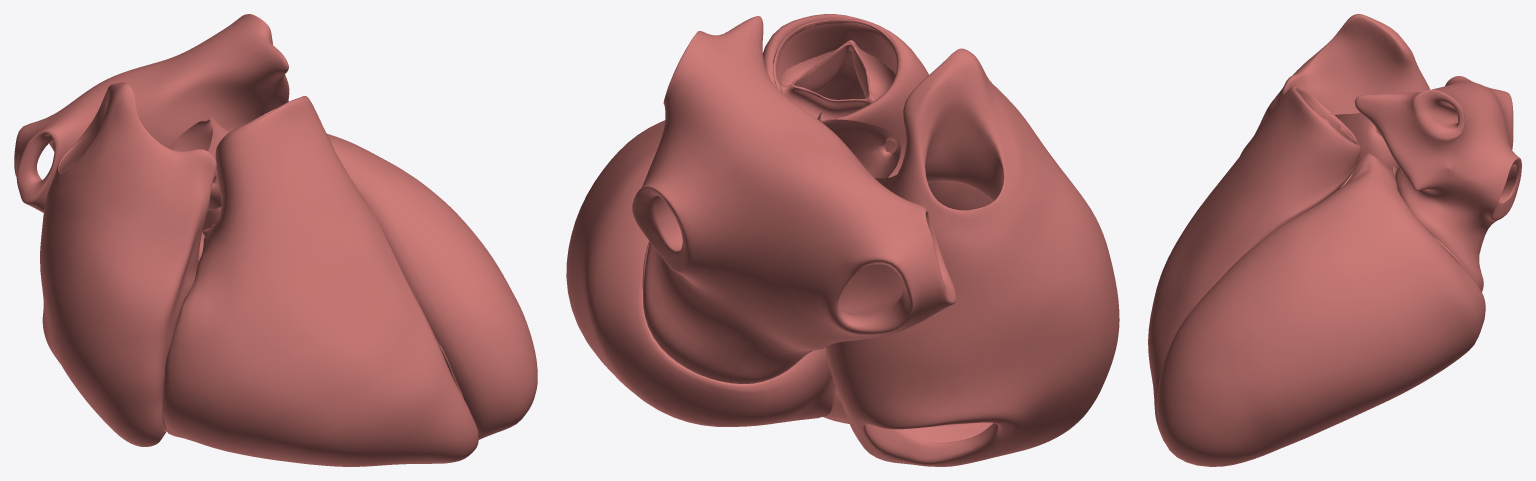
The model's file is heart.glb.
3 views of the same model, side by side, from view 1: azimuth 30°, elevation 25°; view 2: azimuth 150°, elevation 25°; view 3: azimuth 270°, elevation 25° (orthographic). The views are drawn at different scales.
Parts seen in each view (by area): view 1: VH_M_mitral_valve, VH_M_aortic_valve; view 2: VH_M_mitral_valve, VH_M_aortic_valve; view 3: VH_M_mitral_valve, VH_M_aortic_valve.
Boxes of the visible parts, x1=… form: VH_M_mitral_valve: x1=14, y1=14, x2=537, y2=466; VH_M_aortic_valve: x1=170, y1=107, x2=479, y2=436; VH_M_mitral_valve: x1=566, y1=14, x2=1119, y2=466; VH_M_aortic_valve: x1=773, y1=19, x2=900, y2=188; VH_M_mitral_valve: x1=1148, y1=14, x2=1521, y2=466; VH_M_aortic_valve: x1=1295, y1=87, x2=1398, y2=187.
Size of the model in its own units: 0.1244 by 0.1054 by 0.1052.
